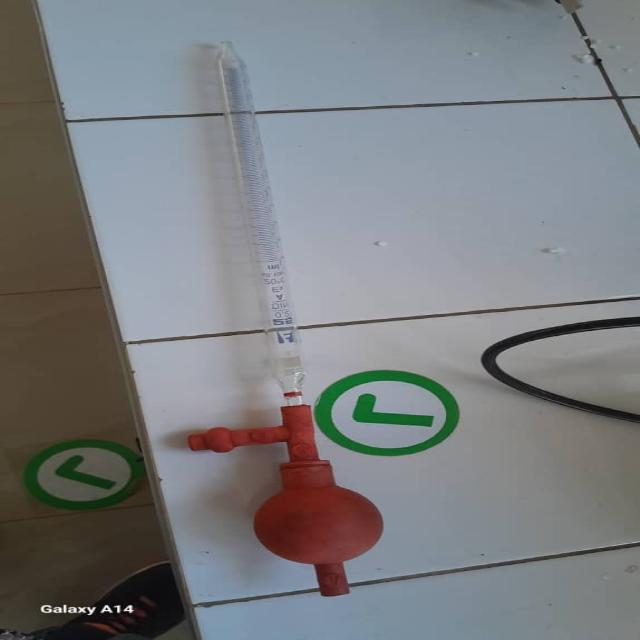Droppers: (177, 52, 399, 607)
